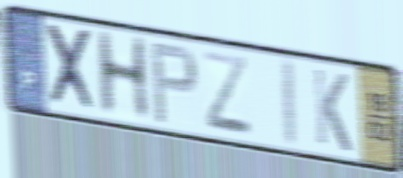H: (93, 27, 153, 121)
I: (281, 54, 301, 153)
K: (311, 65, 354, 156)
P: (149, 40, 200, 127)
X: (41, 20, 101, 117)
Z: (201, 47, 255, 140)
